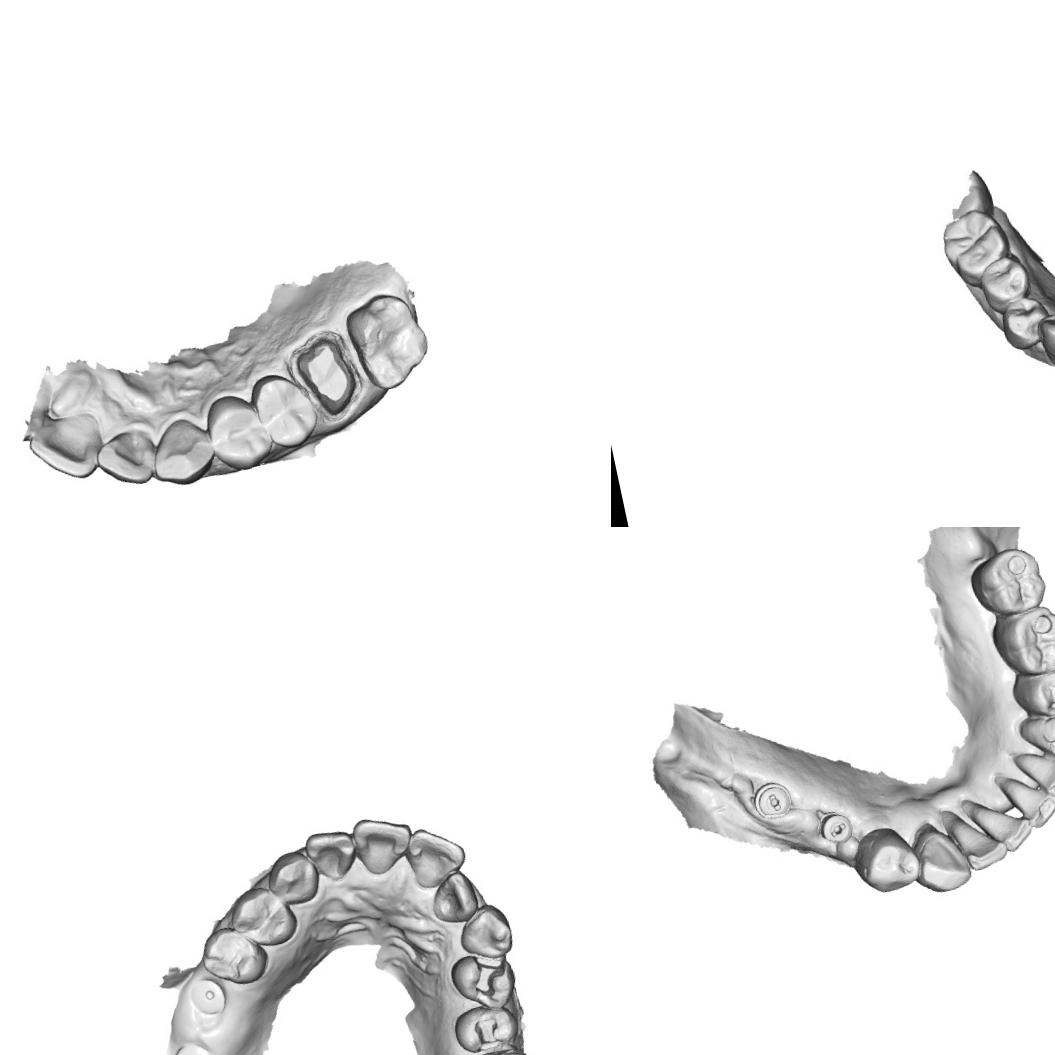canine: (141, 411, 221, 492), (906, 814, 980, 900), (452, 899, 517, 965), (262, 846, 325, 910), (1019, 707, 1055, 767), (1031, 306, 1055, 372)
crown: (287, 327, 366, 425)
implant: (185, 974, 229, 1020), (168, 1037, 217, 1055)
implant_minus: (747, 775, 803, 830), (810, 804, 856, 850)
incisor: (22, 406, 110, 490), (90, 422, 164, 494), (348, 808, 420, 881), (402, 819, 472, 893), (950, 804, 1012, 875), (998, 767, 1055, 836), (302, 824, 361, 886), (425, 868, 483, 930), (978, 804, 1042, 860), (1010, 742, 1055, 806)
inlay: (461, 948, 513, 1004), (468, 1012, 510, 1055)
molar: (340, 282, 438, 398), (963, 542, 1048, 620), (934, 204, 1013, 286), (990, 602, 1055, 683)
premolar: (199, 385, 278, 478), (247, 364, 324, 455), (195, 918, 272, 992), (225, 880, 302, 954), (848, 824, 922, 900), (997, 292, 1051, 352), (1006, 661, 1055, 726), (978, 255, 1030, 308)
